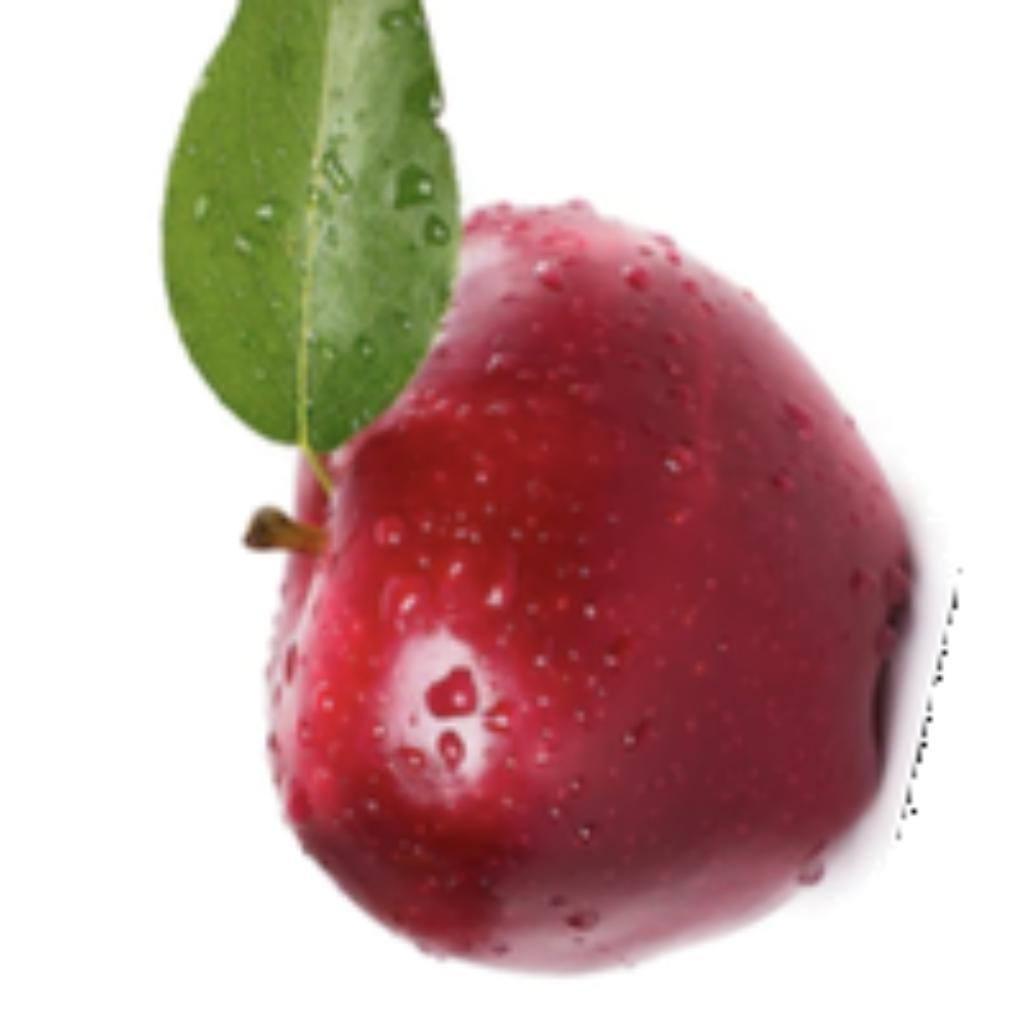apple: (154, 0, 963, 983)
